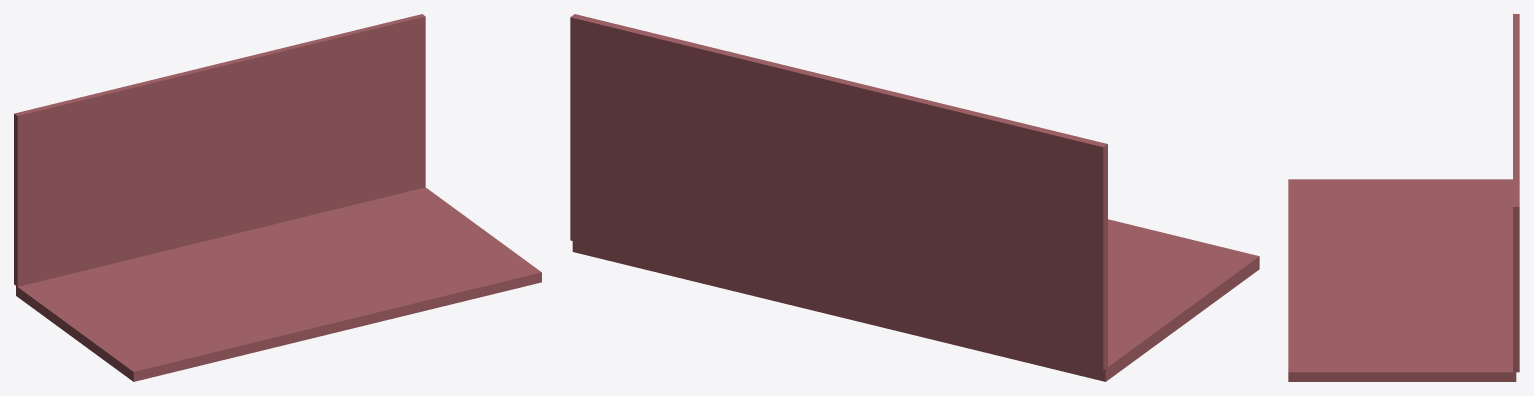
3 renders of one model, left to right at view 1: azimuth 30°, elevation 25°; view 2: azimuth 150°, elevation 25°; view 3: azimuth 270°, elevation 25°, orthographic. The views are drawn at different scales.
Visible parts, largest first — view 1: empty_3, empty_2; view 2: empty_3, empty_2; view 3: empty_2, empty_3.
Part boxes in pixels (x1,y1,x2,y2): empty_3: (14,14,425,286); empty_2: (16,187,541,381); empty_3: (570,14,1107,370); empty_2: (572,219,1259,381); empty_2: (1288,179,1516,381); empty_3: (1513,14,1519,372).
Size of the model in its own units: 20 by 8.47 by 10.14.
